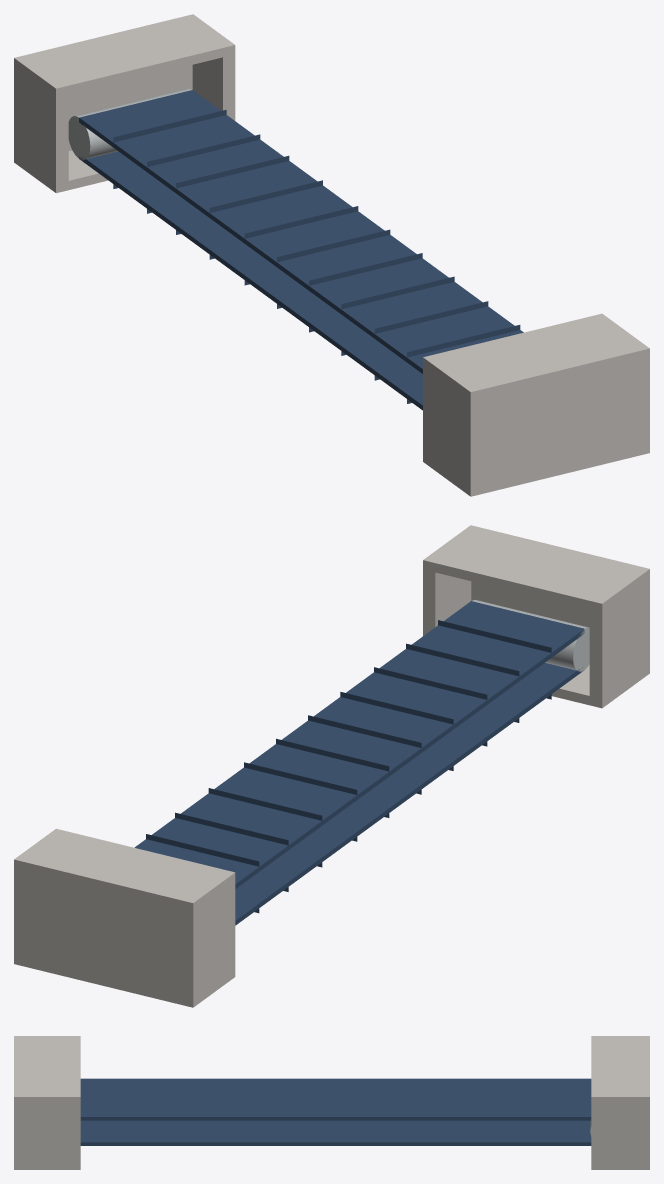
The model's file is conveyor belt.fbx.
3 renders of one model, top to bottom at view 1: azimuth 30°, elevation 25°; view 2: azimuth 150°, elevation 25°; view 3: azimuth 270°, elevation 25°, orthographic. The views are drawn at different scales.
Parts seen in each view (by area): view 1: pCube1, pCube5, pCube4, pCube3, pCylinder3; view 2: pCube1, pCube4, pCube5, pCube3, pCylinder4; view 3: pCube1, pCube3, pCube5, pCube4.
Boxes of the visible parts, left/top/right/bottom form: pCube1: left=79, top=90, right=523, bottom=373; pCube5: left=423, top=313, right=649, bottom=496; pCube4: left=14, top=14, right=235, bottom=193; pCube3: left=79, top=151, right=422, bottom=410; pCylinder3: left=68, top=88, right=191, bottom=160; pCube1: left=134, top=601, right=584, bottom=888; pCube4: left=14, top=828, right=235, bottom=1007; pCube5: left=423, top=525, right=649, bottom=708; pCube3: left=235, top=663, right=583, bottom=925; pCylinder4: left=472, top=599, right=589, bottom=671; pCube1: left=80, top=1078, right=591, bottom=1120; pCube3: left=80, top=1120, right=591, bottom=1145; pCube5: left=14, top=1036, right=80, bottom=1169; pCube4: left=591, top=1036, right=649, bottom=1169.
Bounding box in the file's own units: 3.16 × 1.76 × 13.94.
